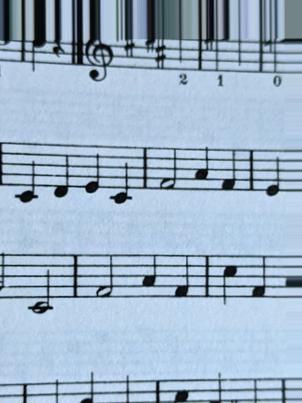A: (139, 250, 160, 306), (192, 144, 212, 195)
D: (50, 140, 73, 201)
E: (80, 142, 103, 199), (262, 146, 283, 200)
F: (168, 253, 194, 305), (217, 144, 239, 198), (250, 251, 269, 303)
HC: (219, 249, 238, 309)
LC: (11, 135, 42, 210), (109, 143, 136, 209)
